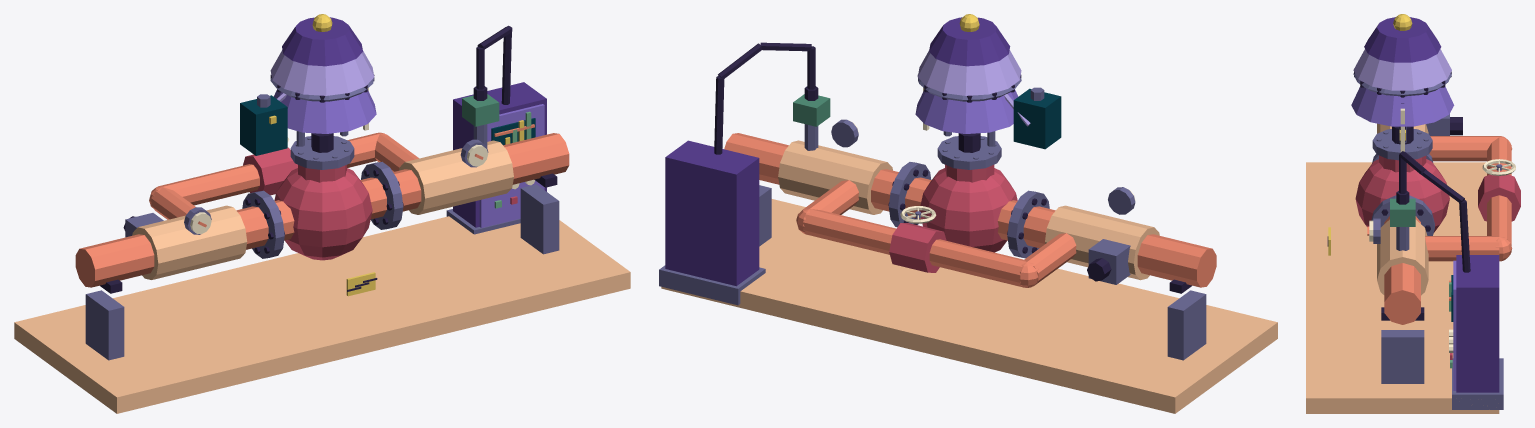
File: vanne_pid.glb
The picture shows the model from 3 angles, left to right: view 1: azimuth 30°, elevation 25°; view 2: azimuth 150°, elevation 25°; view 3: azimuth 270°, elevation 25°; orthographic projection. The views are drawn at different scales.
Parts seen in each view (by area): view 1: vanne_pid_sand, vanne_pid_coral, vanne_pid_steel, vanne_pid_crimson, vanne_pid_indigo, vanne_pid_violet, vanne_pid_dark, vanne_pid_lilac, vanne_pid_teal, vanne_pid_green, vanne_pid_cream, vanne_pid_yellow; view 2: vanne_pid_sand, vanne_pid_coral, vanne_pid_indigo, vanne_pid_steel, vanne_pid_crimson, vanne_pid_dark, vanne_pid_lilac, vanne_pid_violet, vanne_pid_teal, vanne_pid_green; view 3: vanne_pid_sand, vanne_pid_indigo, vanne_pid_steel, vanne_pid_coral, vanne_pid_crimson, vanne_pid_violet, vanne_pid_lilac, vanne_pid_dark, vanne_pid_cream, vanne_pid_green, anim_lift_z_tige.
Boxes of the visible parts, x1,y1,x2,y2 form: vanne_pid_sand: [14, 140, 630, 413]; vanne_pid_coral: [75, 124, 569, 287]; vanne_pid_steel: [85, 78, 559, 360]; vanne_pid_crimson: [243, 147, 517, 260]; vanne_pid_indigo: [282, 17, 546, 227]; vanne_pid_violet: [273, 89, 544, 227]; vanne_pid_dark: [100, 25, 557, 293]; vanne_pid_lilac: [270, 50, 374, 101]; vanne_pid_teal: [240, 95, 535, 155]; vanne_pid_green: [462, 94, 499, 126]; vanne_pid_cream: [190, 87, 534, 233]; vanne_pid_yellow: [269, 115, 524, 296]; vanne_pid_sand: [661, 140, 1277, 413]; vanne_pid_coral: [724, 133, 1216, 287]; vanne_pid_indigo: [665, 17, 1010, 286]; vanne_pid_steel: [659, 75, 1206, 360]; vanne_pid_crimson: [889, 164, 1017, 272]; vanne_pid_dark: [714, 42, 1191, 293]; vanne_pid_lilac: [918, 50, 1030, 126]; vanne_pid_violet: [915, 90, 1018, 133]; vanne_pid_teal: [1013, 88, 1061, 149]; vanne_pid_green: [793, 94, 830, 126]; vanne_pid_sand: [1306, 123, 1499, 413]; vanne_pid_indigo: [1364, 17, 1499, 392]; vanne_pid_steel: [1353, 73, 1503, 409]; vanne_pid_coral: [1384, 136, 1512, 324]; vanne_pid_crimson: [1355, 155, 1520, 359]; vanne_pid_violet: [1351, 86, 1456, 390]; vanne_pid_lilac: [1353, 49, 1451, 90]; vanne_pid_dark: [1327, 71, 1470, 320]; vanne_pid_cream: [1369, 108, 1515, 352]; vanne_pid_green: [1390, 198, 1415, 226]; anim_lift_z_tige: [1393, 14, 1412, 140].
Size of the model in its own units: 2.6 by 1.44 by 1.
